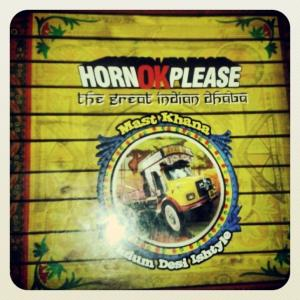Vehicle-registration-plate: (211, 190, 218, 200)
